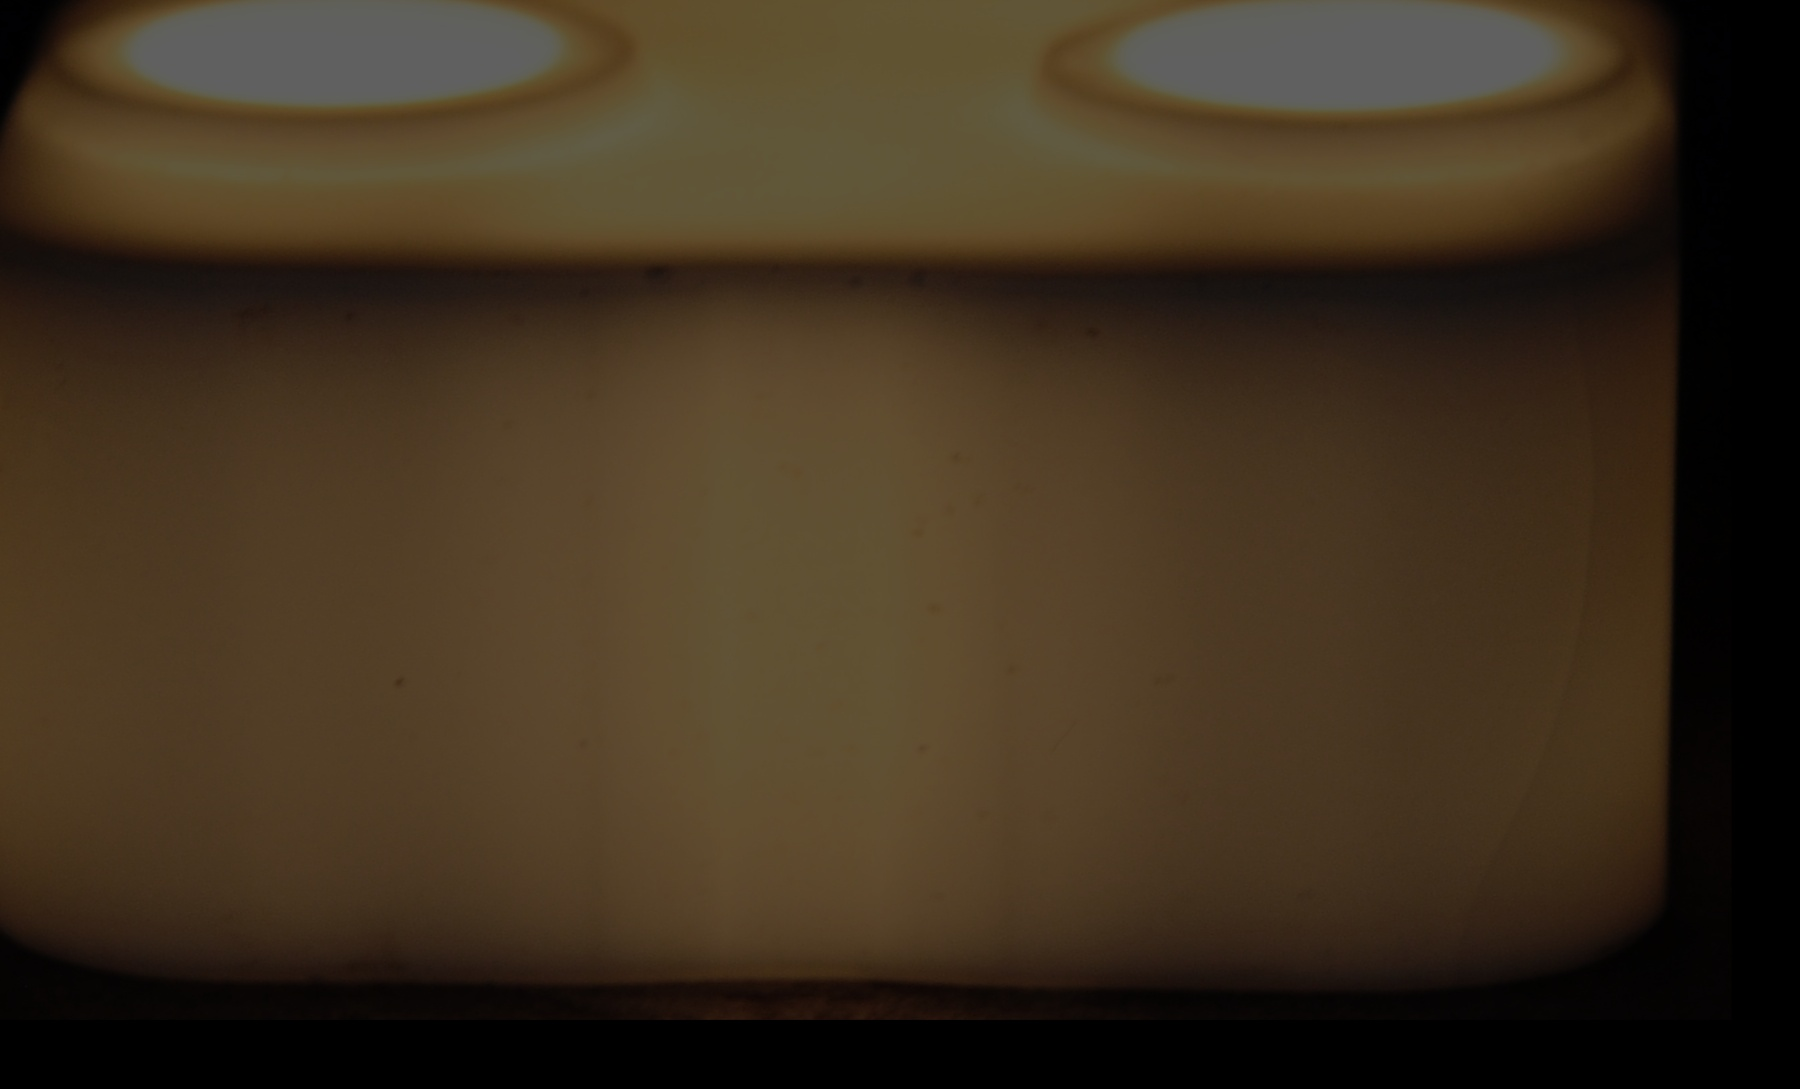flaw: (1450, 267, 1610, 990)
